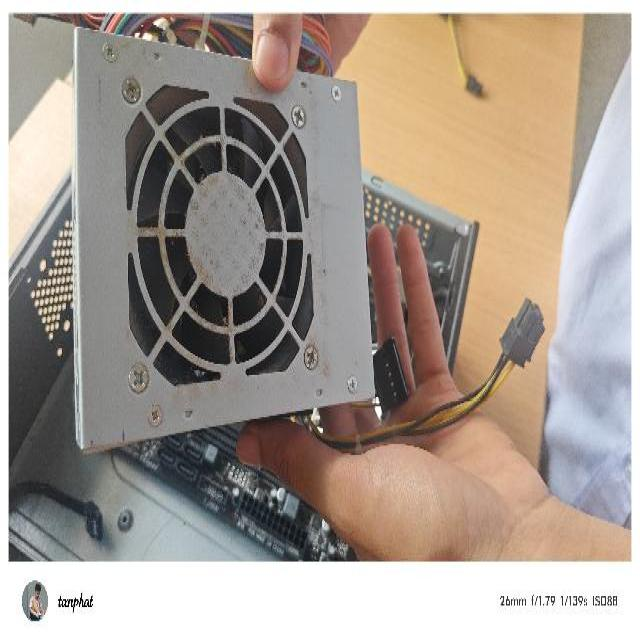PSU: (69, 22, 404, 458)
